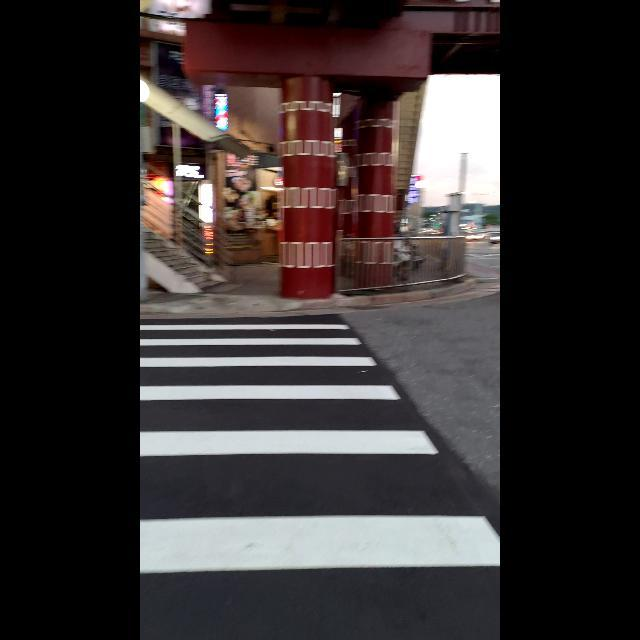sidewalk: (141, 323, 500, 572)
